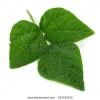Soyabean leaf: (36, 39, 86, 93), (39, 5, 96, 46), (8, 20, 47, 70)
